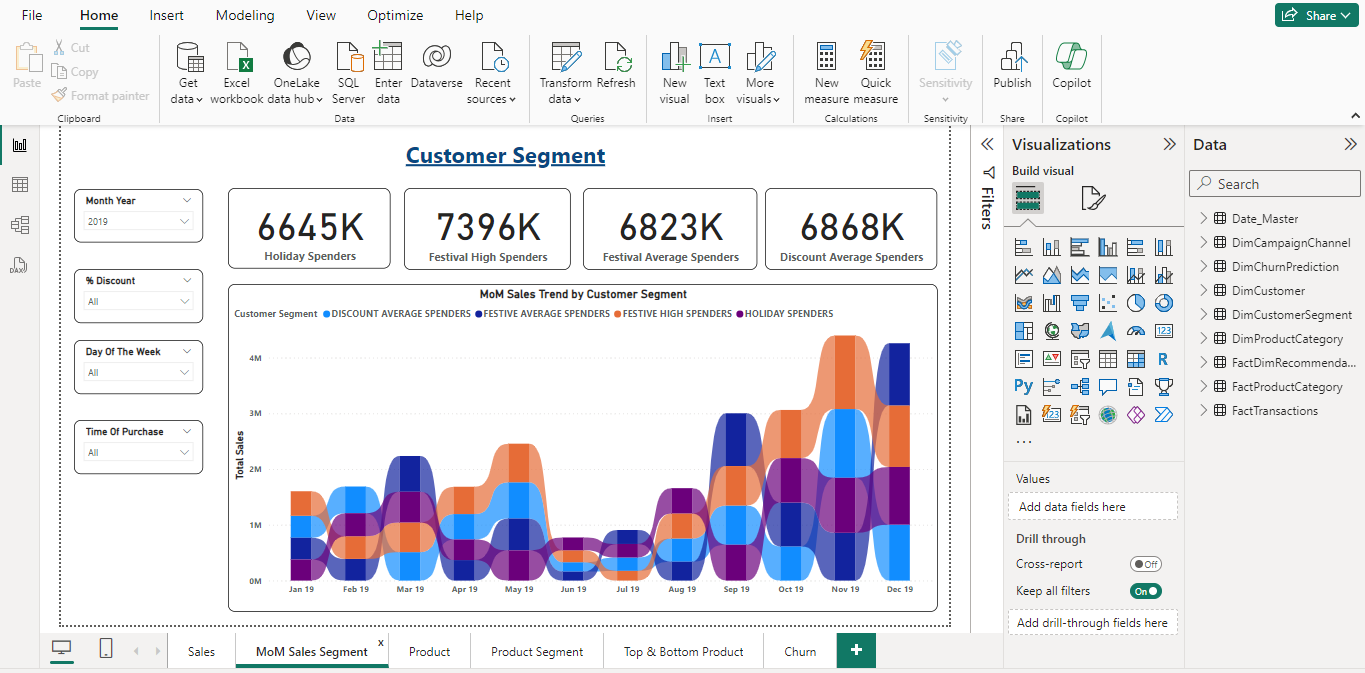

The page's visual inventory and layout, read from the dashboard file:
{"tool":"powerbi","page":{"name":"MoM Sales Segment","canvas":[1280,720],"ordinal":1},"visuals":[{"type":"ribbonChart","title":"MoM Sales Trend by Customer Segment","fields":{"Category":["Date_Master.Month Text"],"Y":["FactTransactions.Total_sales"],"Series":["DimCustomerSegment.CUSTOMER SEGMENT"]},"box":[240.6,228.8,1021.6,472.4],"z":0},{"type":"slicer","fields":{"Values":["DimCustomerSegment.%DISCOUNT"]},"box":[19.4,207.4,186.5,77.6],"z":1000},{"type":"slicer","fields":{"Values":["DimCustomerSegment.DAY OF THE WEEK"]},"box":[19.2,310,186,78.2],"z":2000},{"type":"slicer","fields":{"Values":["DimCustomerSegment.TIME OF PURCHASE"]},"box":[19.2,425.2,186,78.2],"z":3000},{"type":"card","fields":{"Values":["DimCustomerSegment.Holiday Spenders"]},"box":[240.2,91,234.2,116.4],"z":4000},{"type":"card","fields":{"Values":["DimCustomerSegment.Discount Average Spenders"]},"box":[1014.5,91,247.6,117.9],"z":5000},{"type":"card","fields":{"Values":["DimCustomerSegment.Festival Average Spenders"]},"box":[751.9,91,250.6,117.9],"z":6000},{"type":"card","fields":{"Values":["DimCustomerSegment.Festival High Spenders"]},"box":[493.8,91,240.2,117.9],"z":7000},{"type":"textbox","box":[437,14.8,407.5,65],"z":8000},{"type":"slicer","fields":{"Values":["Date_Master.Year","Date_Master.Month Text"]},"box":[19.2,91.5,186,76.8],"z":9000}]}

Visuals, with their boxes on the page's 1280x720 design canvas (x1, y1, x2, y2). These are canvas units, not pixel positions in the 1365x673 screenshot, which may show the page scaled, cropped or inside an application window:
"MoM Sales Trend by Customer Segment" ribbonChart: (241,229,1262,701)
slicer - DimCustomerSegment.%DISCOUNT: (19,207,206,285)
slicer - DimCustomerSegment.DAY OF THE WEEK: (19,310,205,388)
slicer - DimCustomerSegment.TIME OF PURCHASE: (19,425,205,503)
card - DimCustomerSegment.Holiday Spenders: (240,91,474,207)
card - DimCustomerSegment.Discount Average Spenders: (1014,91,1262,209)
card - DimCustomerSegment.Festival Average Spenders: (752,91,1002,209)
card - DimCustomerSegment.Festival High Spenders: (494,91,734,209)
textbox: (437,15,844,80)
slicer - Date_Master.Year x Date_Master.Month Text: (19,92,205,168)
